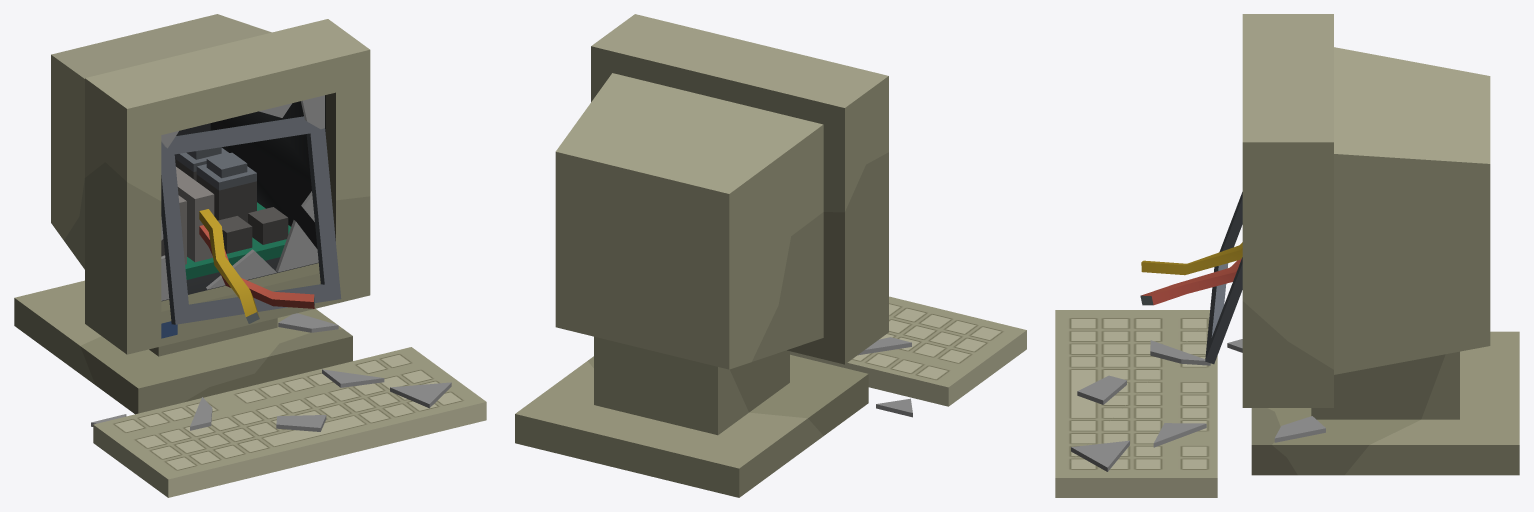
The model's file is AI_Prop_Computer_Broken.fbx.
3 renders of one model, left to right at view 1: azimuth 30°, elevation 25°; view 2: azimuth 150°, elevation 25°; view 3: azimuth 270°, elevation 25°, orthographic. The views are drawn at different scales.
Parts seen in each view (by area): view 1: AI_Prop_Computer_Broken; view 2: AI_Prop_Computer_Broken; view 3: AI_Prop_Computer_Broken.
Part boxes in pixels (x1=…): AI_Prop_Computer_Broken: x1=14, y1=14, x2=486, y2=497; AI_Prop_Computer_Broken: x1=515, y1=14, x2=1026, y2=497; AI_Prop_Computer_Broken: x1=1055, y1=14, x2=1519, y2=497.
Size of the model in its own units: 1.19 by 1.13 by 1.4.
